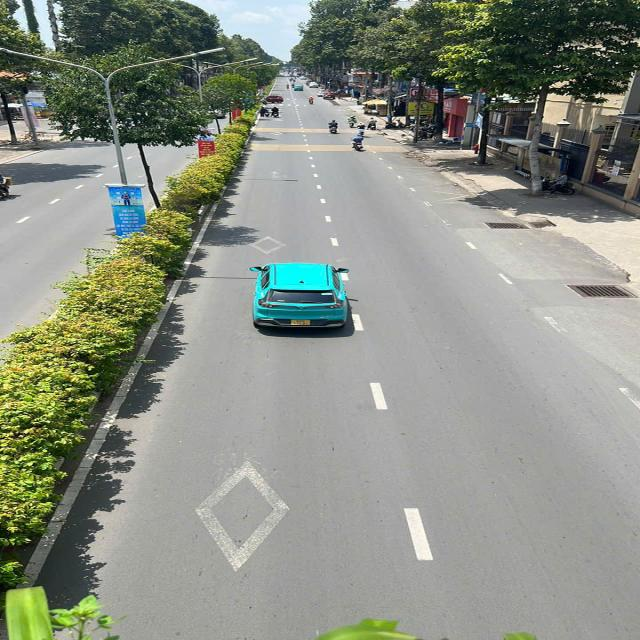car: (245, 255, 364, 339)
motobyte: (346, 133, 372, 153), (328, 116, 344, 136), (345, 110, 360, 128), (368, 115, 382, 134)
